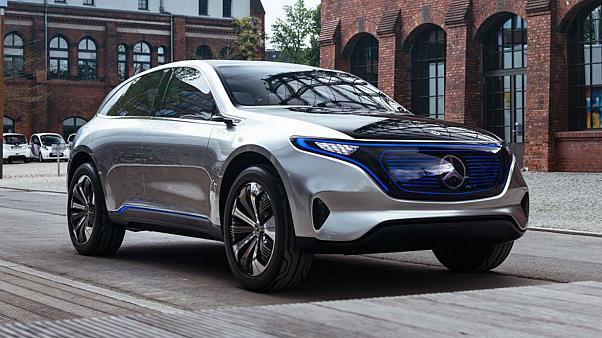car: (66, 73, 553, 285)
